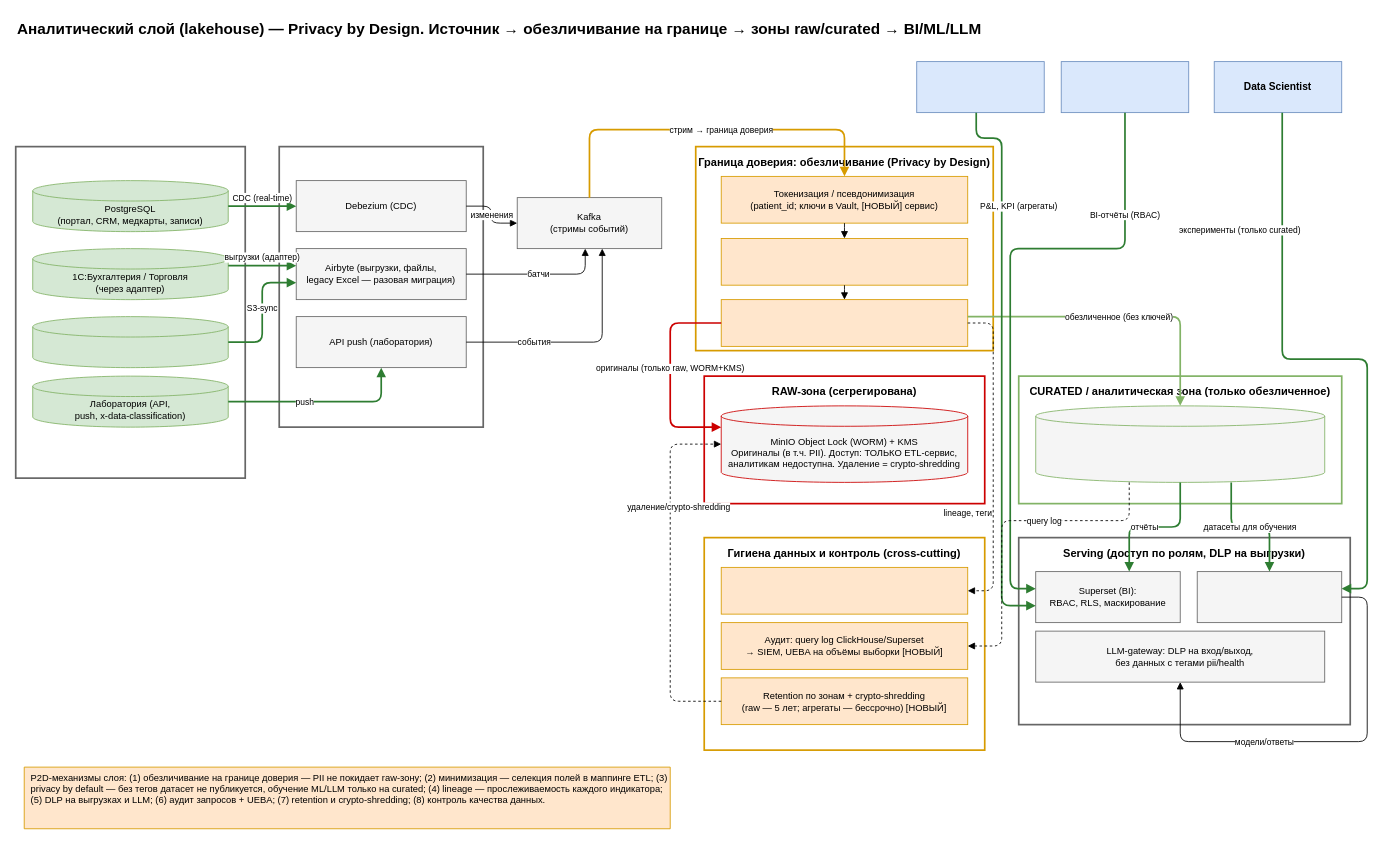
Some shapes in this 1389 by 843 pixel diagram are drawn without their labels. Each missing label, with the box of its shape:
ClickHouse (OLAP): псевдонимы, агрегаты, теги class/retention; query log → SIEM: (1035, 405, 1325, 482)
DataHub: каталог, теги, Data Lineage [НОВЫЙ]: (720, 567, 968, 614)
Ingestion: (278, 145, 484, 428)
JupyterHub + MLflow: обучение ТОЛЬКО на curated: (1196, 571, 1342, 623)
Аналитик: (1060, 61, 1189, 113)
Источники (OLTP / внешние): (14, 145, 246, 479)
Контроль качества (Great Expectations) + lineage-метки (DataHub): (720, 299, 968, 346)
Руководство: (916, 61, 1044, 113)
Сканы медкарт/договоров (MinIO): (32, 316, 228, 368)
Удаление прямых идентификаторов (ФИО, телефон, email, точный ДР): (720, 238, 968, 285)
